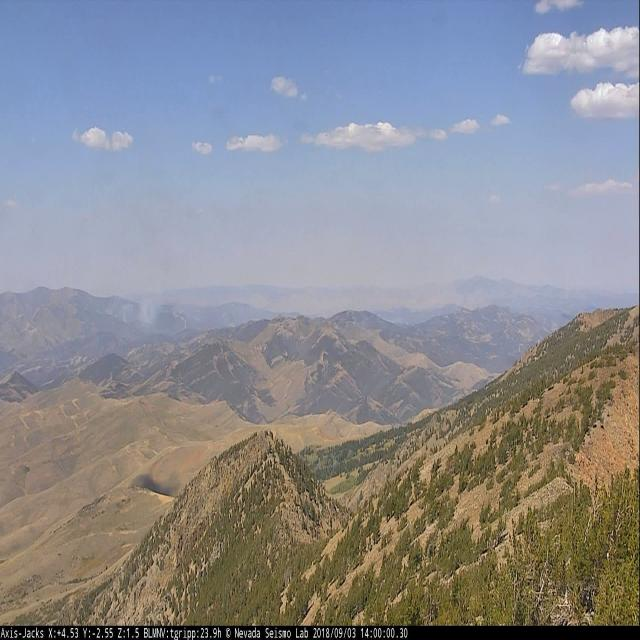smoke: (122, 296, 159, 326)
